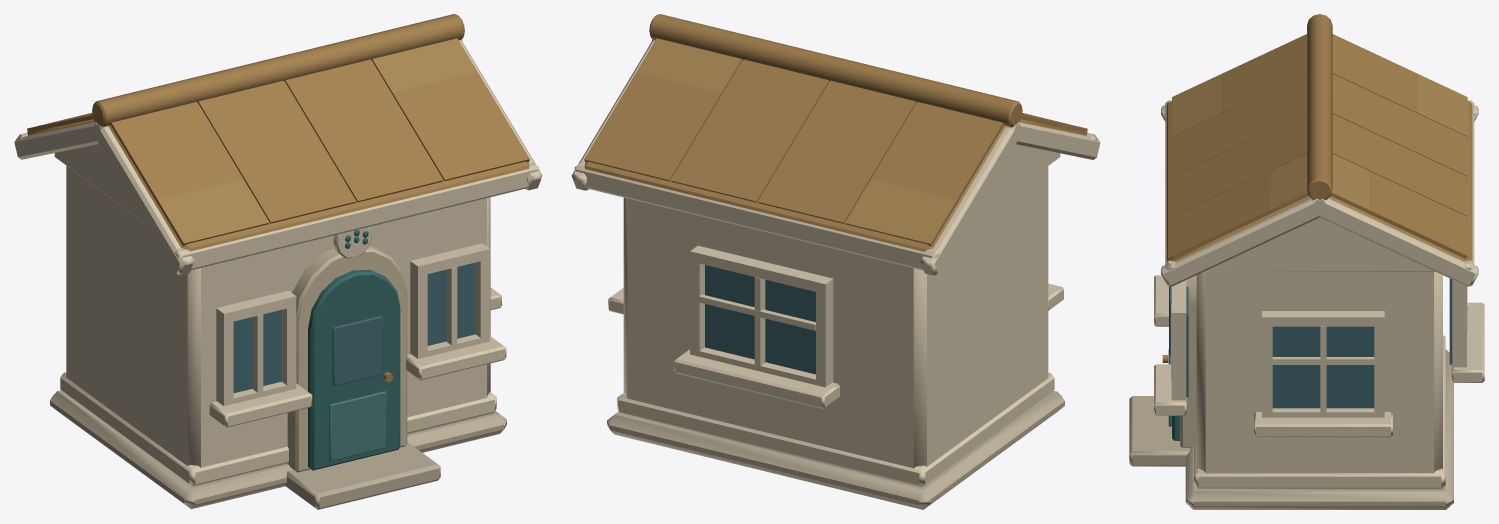
File: town_hall_level_1.glb
The picture shows the model from 3 angles, left to right: view 1: azimuth 30°, elevation 25°; view 2: azimuth 150°, elevation 25°; view 3: azimuth 270°, elevation 25°; orthographic projection. The views are drawn at different scales.
Visible parts, largest first — view 1: town_hall_level_1_runtime; view 2: town_hall_level_1_runtime; view 3: town_hall_level_1_runtime.
Boxes of the visible parts, left/top/right/bottom form: town_hall_level_1_runtime: left=14, top=14, right=542, bottom=509; town_hall_level_1_runtime: left=571, top=14, right=1100, bottom=509; town_hall_level_1_runtime: left=1129, top=14, right=1484, bottom=509.
Bounding box in the file's own units: 3.3 × 3.1 × 2.91.
